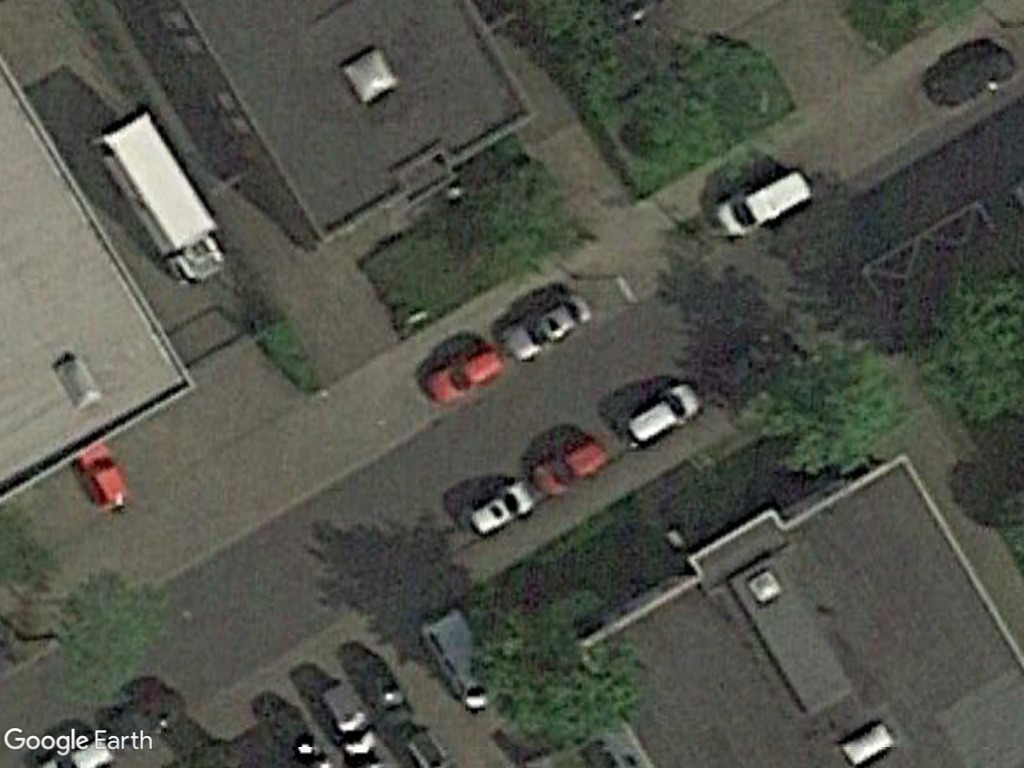car: (499, 290, 594, 366), (615, 382, 706, 451), (421, 341, 507, 407)
truck: (91, 103, 233, 291)
van: (712, 165, 815, 241)
